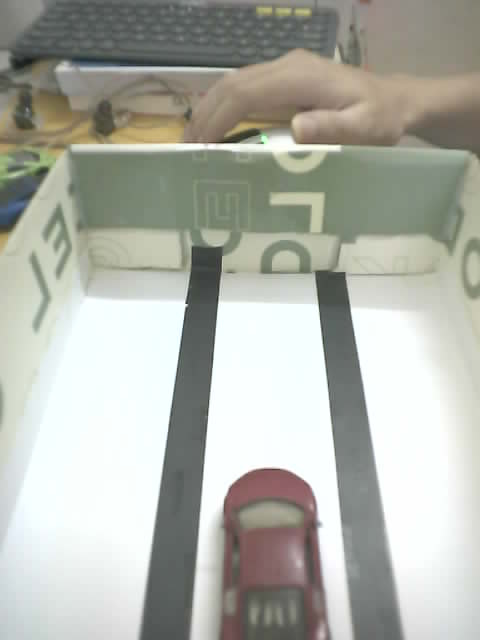vehicle: (212, 468, 330, 630)
